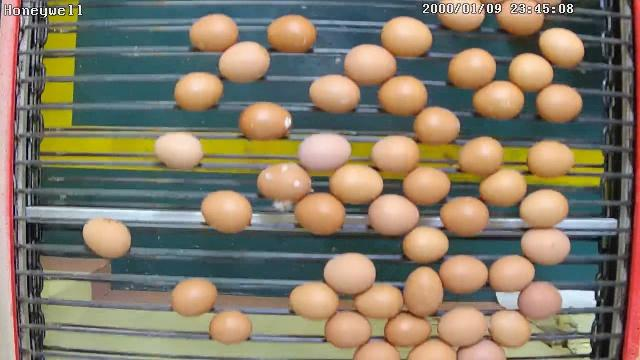egg: (198, 188, 254, 235), (326, 161, 384, 206), (256, 159, 313, 203), (216, 40, 272, 84), (341, 42, 397, 86), (293, 191, 346, 237), (322, 251, 376, 296), (296, 130, 352, 173), (368, 192, 420, 238), (80, 215, 133, 260), (379, 16, 433, 60), (238, 99, 294, 141), (470, 80, 526, 122), (368, 133, 422, 176), (518, 226, 573, 268), (187, 11, 240, 54), (172, 70, 225, 113), (376, 74, 429, 117), (308, 73, 362, 115), (402, 264, 444, 318), (439, 194, 490, 238), (264, 12, 316, 55), (446, 46, 496, 90), (438, 252, 489, 295), (436, 306, 488, 348), (517, 187, 570, 228), (322, 308, 372, 351), (401, 164, 452, 206), (287, 281, 339, 322), (168, 276, 218, 318), (534, 82, 584, 124), (478, 166, 528, 208), (382, 308, 432, 350), (353, 280, 403, 322), (153, 131, 204, 172), (524, 139, 576, 179), (486, 252, 535, 294), (456, 134, 504, 176), (413, 104, 461, 146), (538, 26, 585, 68), (507, 51, 554, 93), (402, 224, 451, 264), (493, 0, 546, 36), (516, 280, 562, 321), (487, 308, 532, 349), (206, 308, 252, 346)
